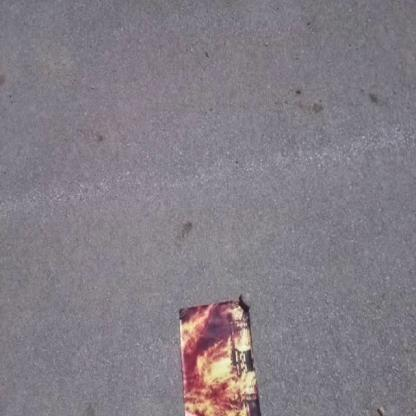fire-poster: (178, 292, 263, 415)
